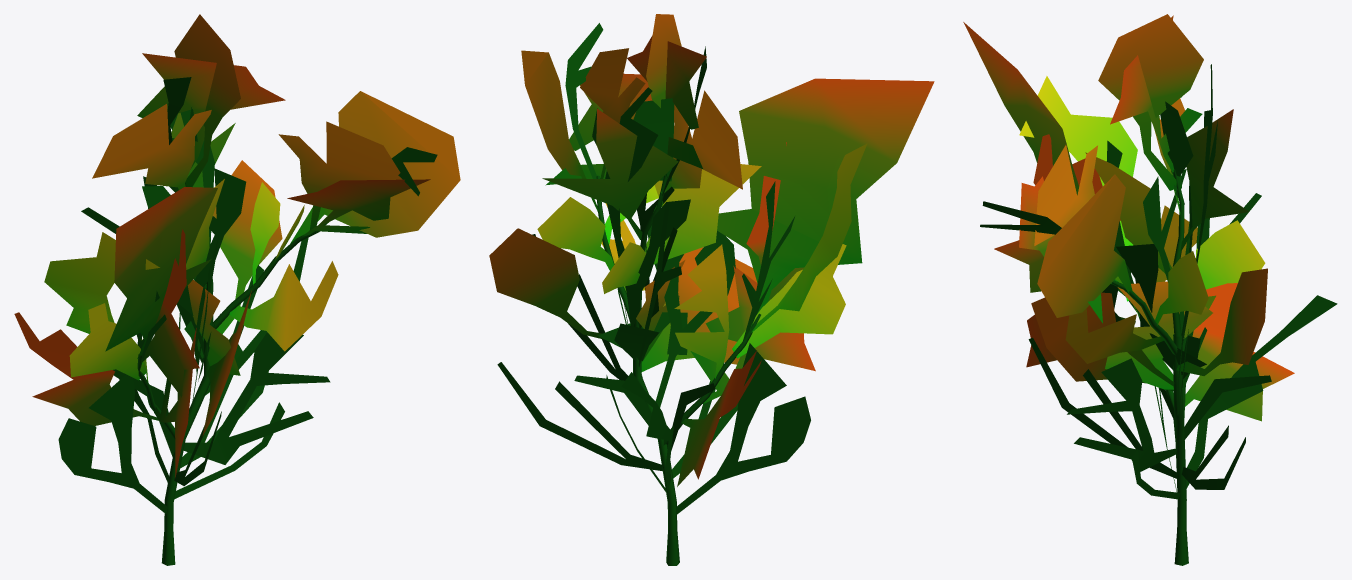
The model's file is Acacia_LOD0_Var1_semkO.fbx.
3 views of the same model, side by side, from view 1: azimuth 30°, elevation 25°; view 2: azimuth 150°, elevation 25°; view 3: azimuth 270°, elevation 25° (orthographic). The views are drawn at different scales.
Parts seen in each view (by area): view 1: _66ca_Var1_LOD0; view 2: _66ca_Var1_LOD0; view 3: _66ca_Var1_LOD0.
Part boxes in pixels (left/top/right/bottom): _66ca_Var1_LOD0: left=14, top=14, right=460, bottom=565; _66ca_Var1_LOD0: left=489, top=14, right=934, bottom=565; _66ca_Var1_LOD0: left=963, top=14, right=1337, bottom=565.
Size of the model in its own units: 72.19 by 99.37 by 60.18.
